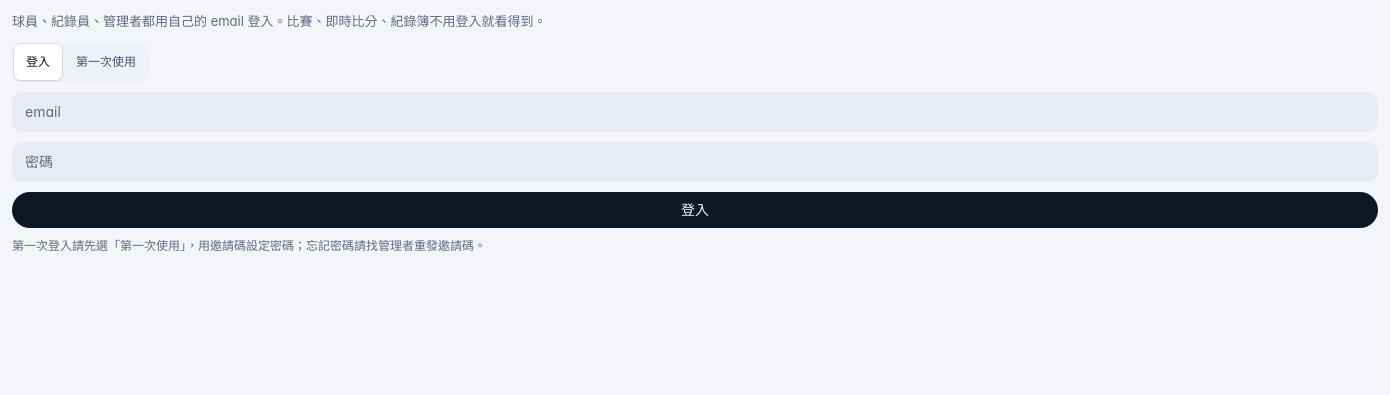
Test case: LoginForm 第一次使用 › creates the account with the trimmed email, then activates it with the 邀請碼
Click the tab "第一次使用": [106, 62] box left=64, top=44, right=148, bottom=80
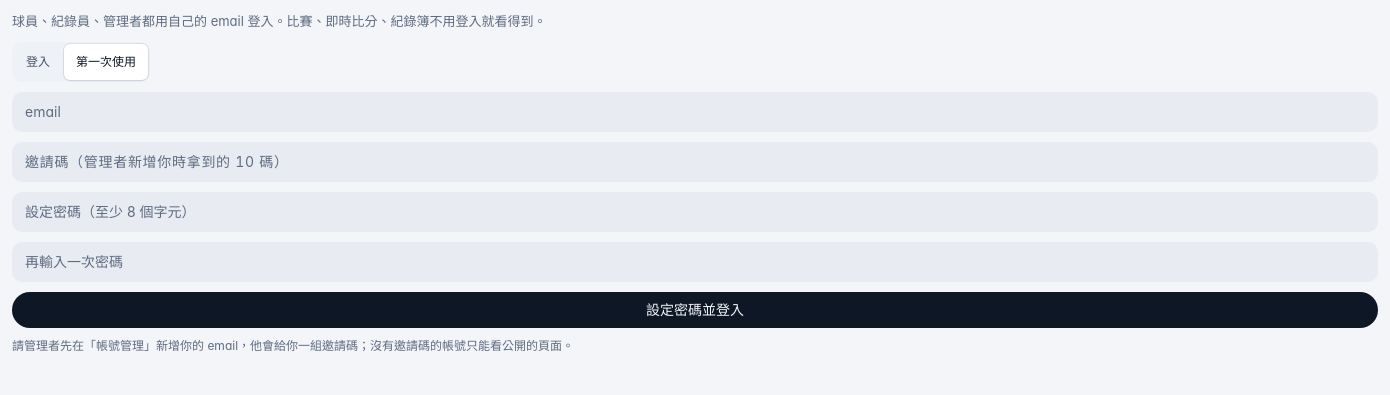
In the field labelled "email": [695, 112] box left=12, top=92, right=1378, bottom=132, type " new@gmail.com "
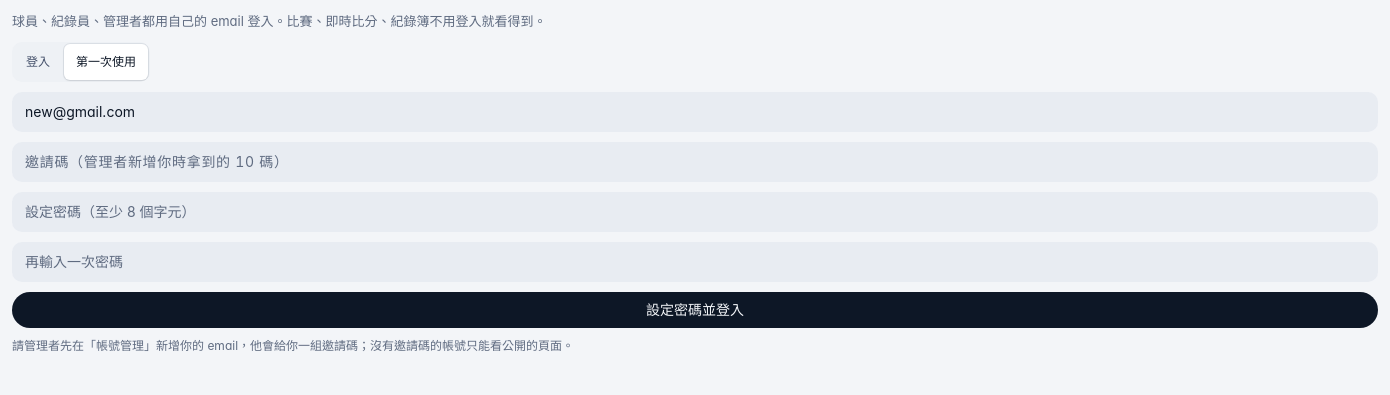
In the field labelled "邀請碼": [695, 162] box left=12, top=142, right=1378, bottom=182, type "k7q2m-9xapd"
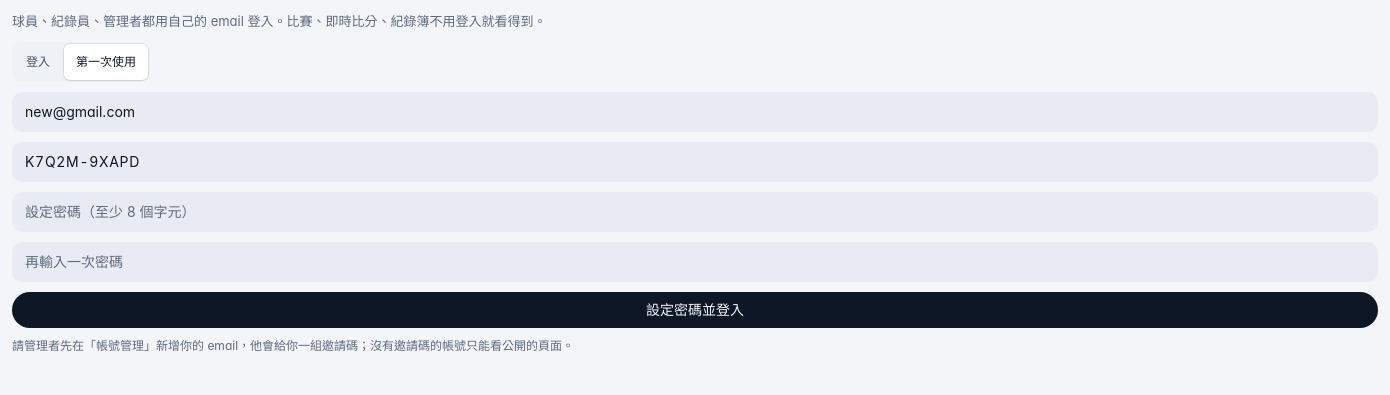
In the password field labelled "設定密碼": [695, 212] box left=12, top=192, right=1378, bottom=232, type "abcdefgh"
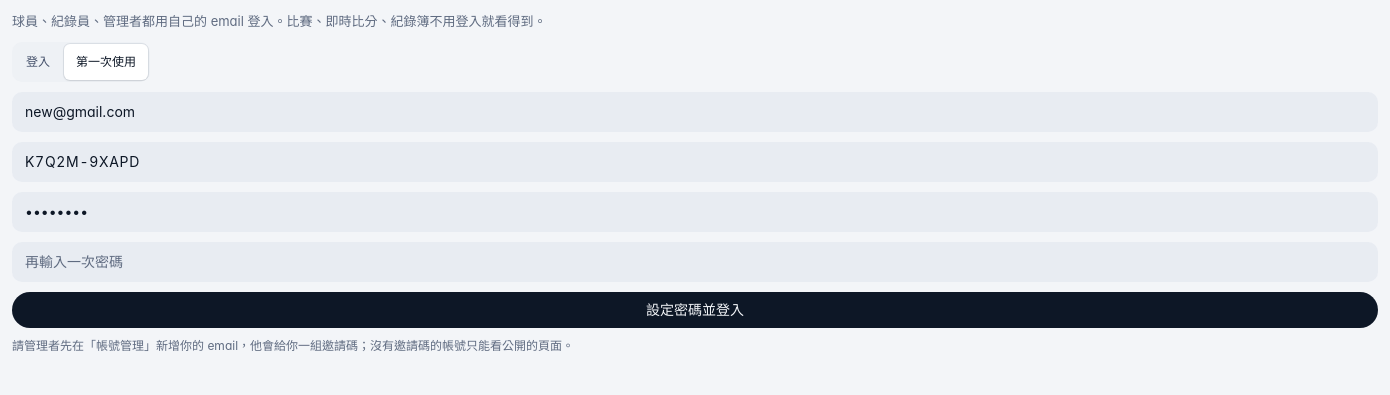
In the password field labelled "再輸入一次密碼": [695, 262] box left=12, top=242, right=1378, bottom=282, type "abcdefgh"
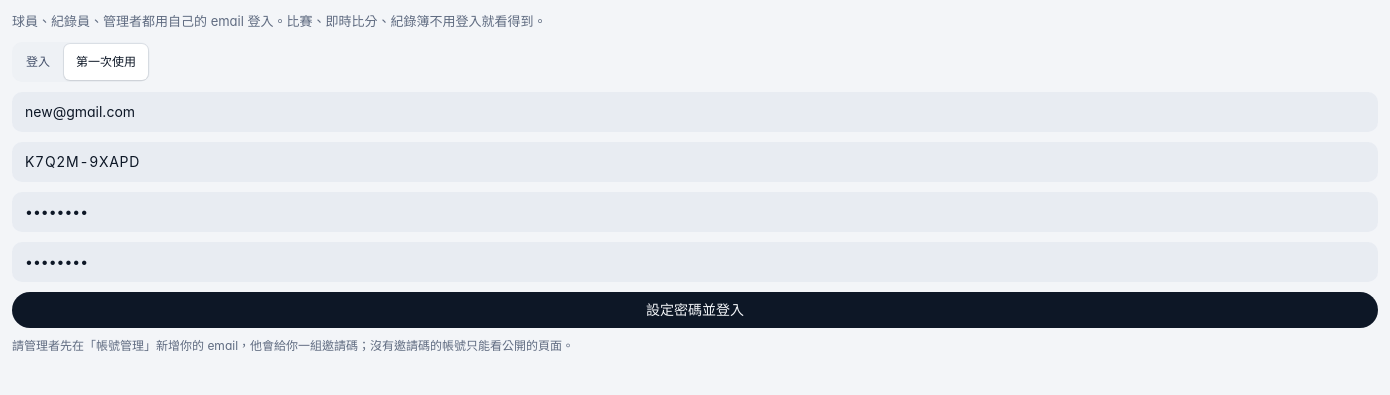
Click the button "設定密碼並登入": [695, 310] box left=12, top=292, right=1378, bottom=328
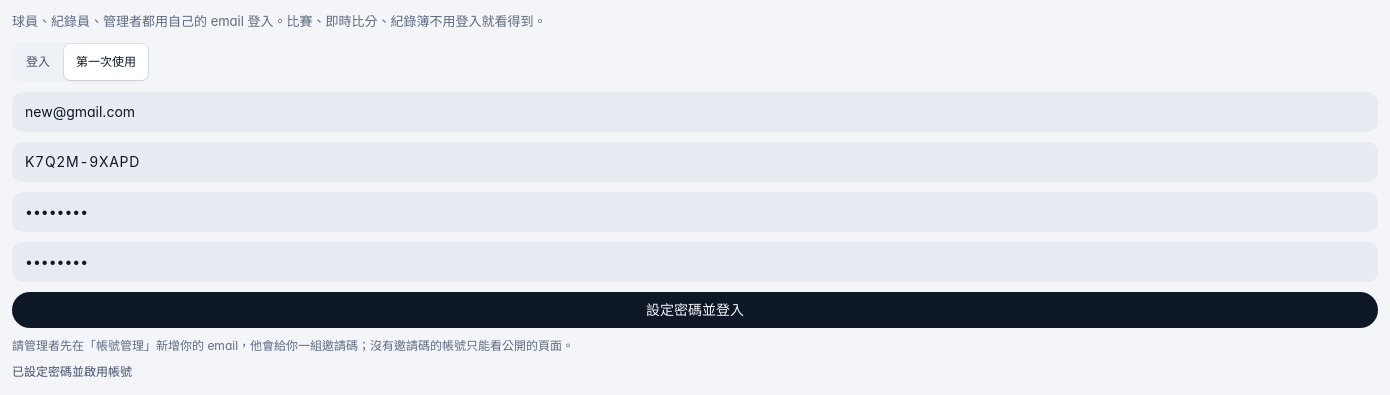
Expected: the text "已設定密碼並啟用帳號" is shown, left=12, top=364, right=132, bottom=378
